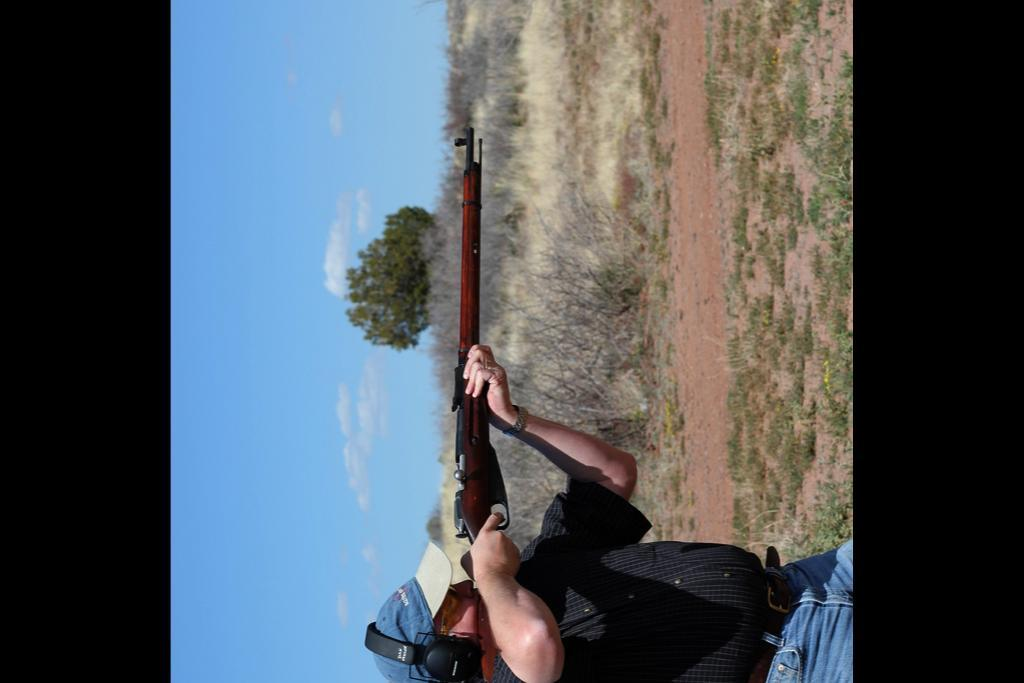gun: (455, 116, 522, 680)
